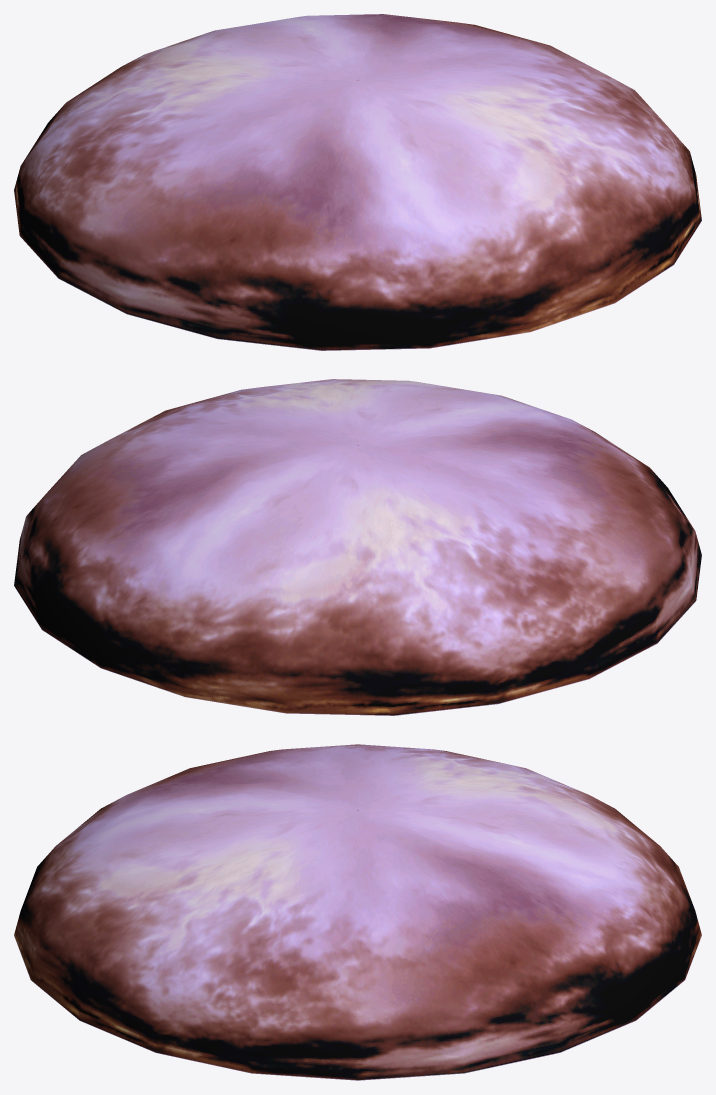
File: escenarioo.obj
The picture shows the model from 3 angles, top to bottom: view 1: azimuth 30°, elevation 25°; view 2: azimuth 150°, elevation 25°; view 3: azimuth 270°, elevation 25°; orthographic projection.
Parts seen in each view (by area): view 1: polygon42; view 2: polygon42; view 3: polygon42.
Boxes of the visible parts, x1=… form: polygon42: x1=14, y1=14, x2=701, y2=350; polygon42: x1=14, y1=379, x2=701, y2=715; polygon42: x1=14, y1=744, x2=701, y2=1080.
Bounding box in the file's own units: 5512 × 1304 × 5512.
